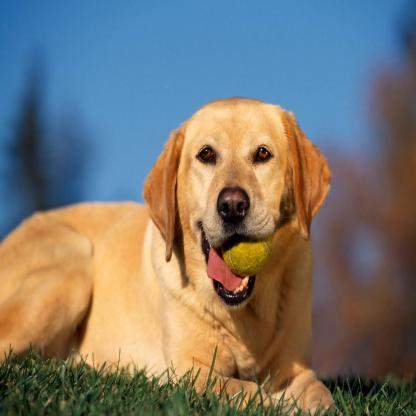Rotveler: (2, 91, 340, 412)
